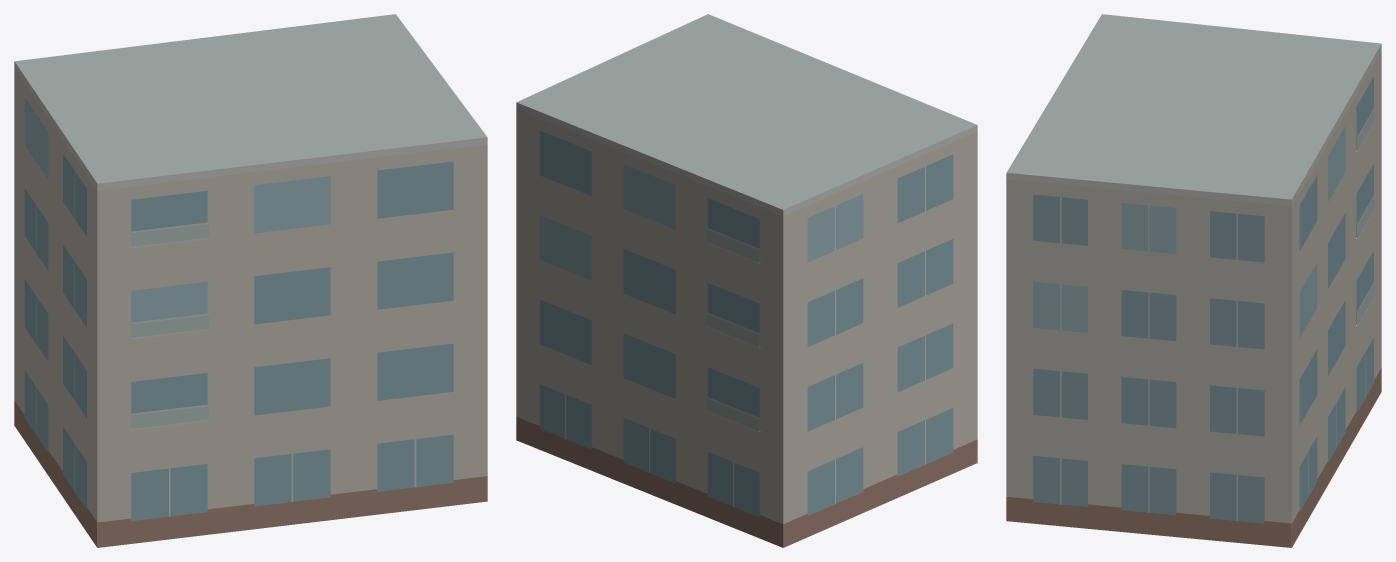
Rendered from survey-upis-32702471.glb.
3 renders of one model, left to right at view 1: azimuth 30°, elevation 25°; view 2: azimuth 150°, elevation 25°; view 3: azimuth 270°, elevation 25°, orthographic. The views are drawn at different scales.
Parts seen in each view (by area): view 1: survey-upis-32702471.tmp; view 2: survey-upis-32702471.tmp; view 3: survey-upis-32702471.tmp.
Boxes of the visible parts, <box> form: survey-upis-32702471.tmp: <box>14,14,487,547</box>; survey-upis-32702471.tmp: <box>516,14,977,547</box>; survey-upis-32702471.tmp: <box>1006,14,1381,547</box>.
Size of the model in its own units: 14.63 by 12.8 by 12.5.
